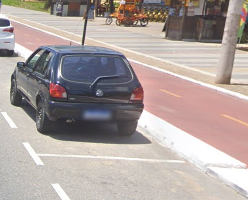car: (9, 38, 146, 139)
